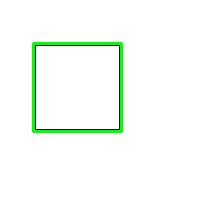line_segment: (32, 42, 123, 133)
